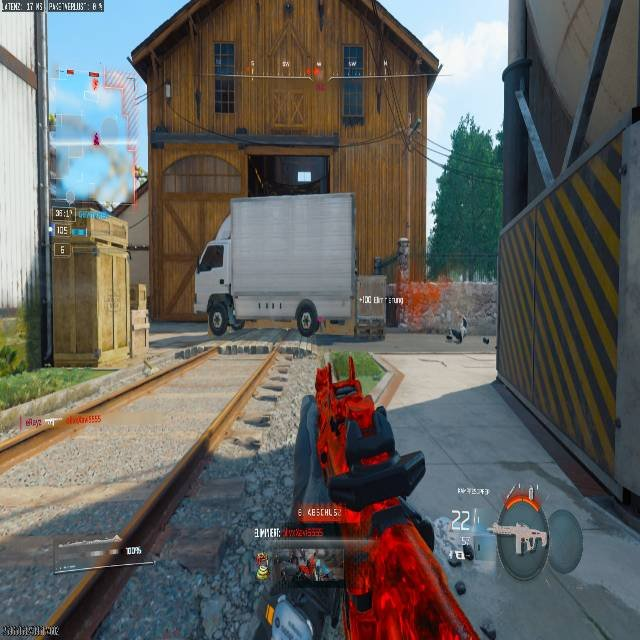player: (205, 282, 242, 337), (134, 164, 149, 203)
